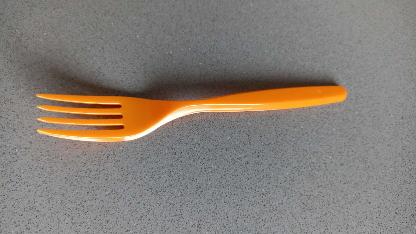Others: (35, 84, 347, 144)
